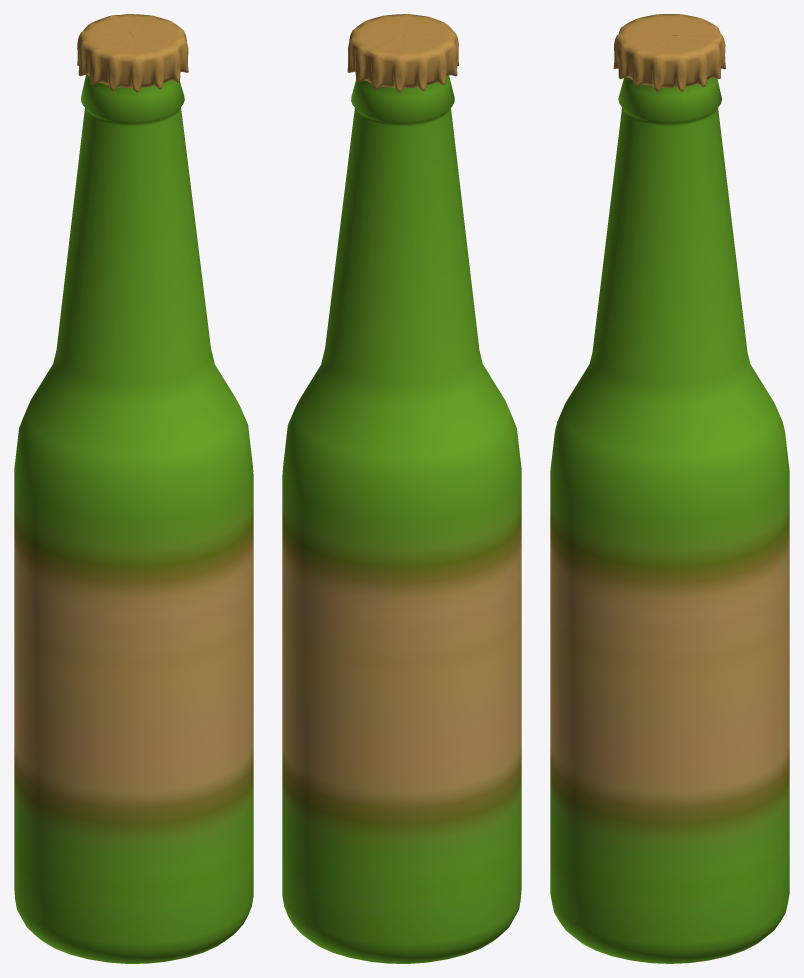
The model's file is Beer Bottle with cap.fbx.
3 renders of one model, left to right at view 1: azimuth 30°, elevation 25°; view 2: azimuth 150°, elevation 25°; view 3: azimuth 270°, elevation 25°, orthographic.
Visible parts, largest first — view 1: Cylinder; view 2: Cylinder; view 3: Cylinder.
Boxes of the visible parts, x1=… form: Cylinder: x1=14, y1=14, x2=253, y2=963; Cylinder: x1=282, y1=14, x2=521, y2=963; Cylinder: x1=550, y1=14, x2=789, y2=963.
Bounding box in the file's own units: 241 × 989 × 241.
1 material, 1 textured.
